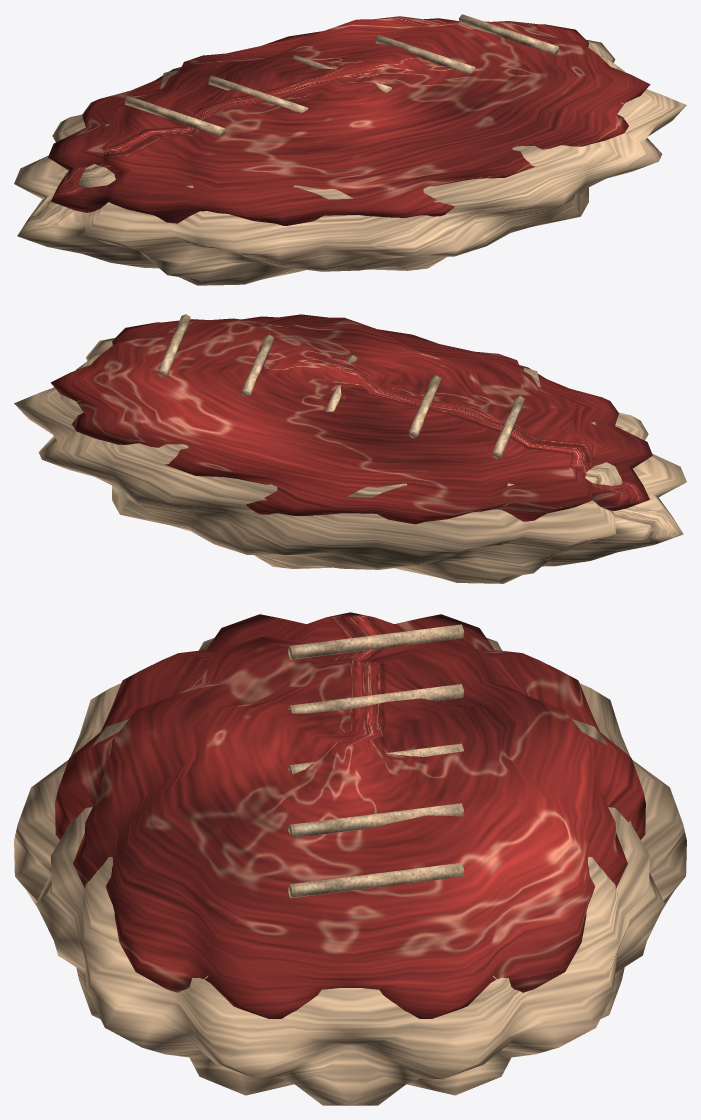
The model's file is steak_raw.glb.
3 views of the same model, one above another, from view 1: azimuth 30°, elevation 25°; view 2: azimuth 150°, elevation 25°; view 3: azimuth 270°, elevation 25° (orthographic). The views are drawn at different scales.
Visible parts, largest first — view 1: meat, fat; view 2: meat, fat; view 3: meat, fat.
Part boxes in pixels (x1,y1,x2,y2): meat: (48,16,650,225); fat: (14,14,686,285); meat: (50,314,652,524); fat: (14,314,686,583); meat: (55,612,645,1018); fat: (14,624,686,1105).
Size of the model in its own units: 0.2489 by 0.0563 by 0.1575.
2 materials, 2 textured.
